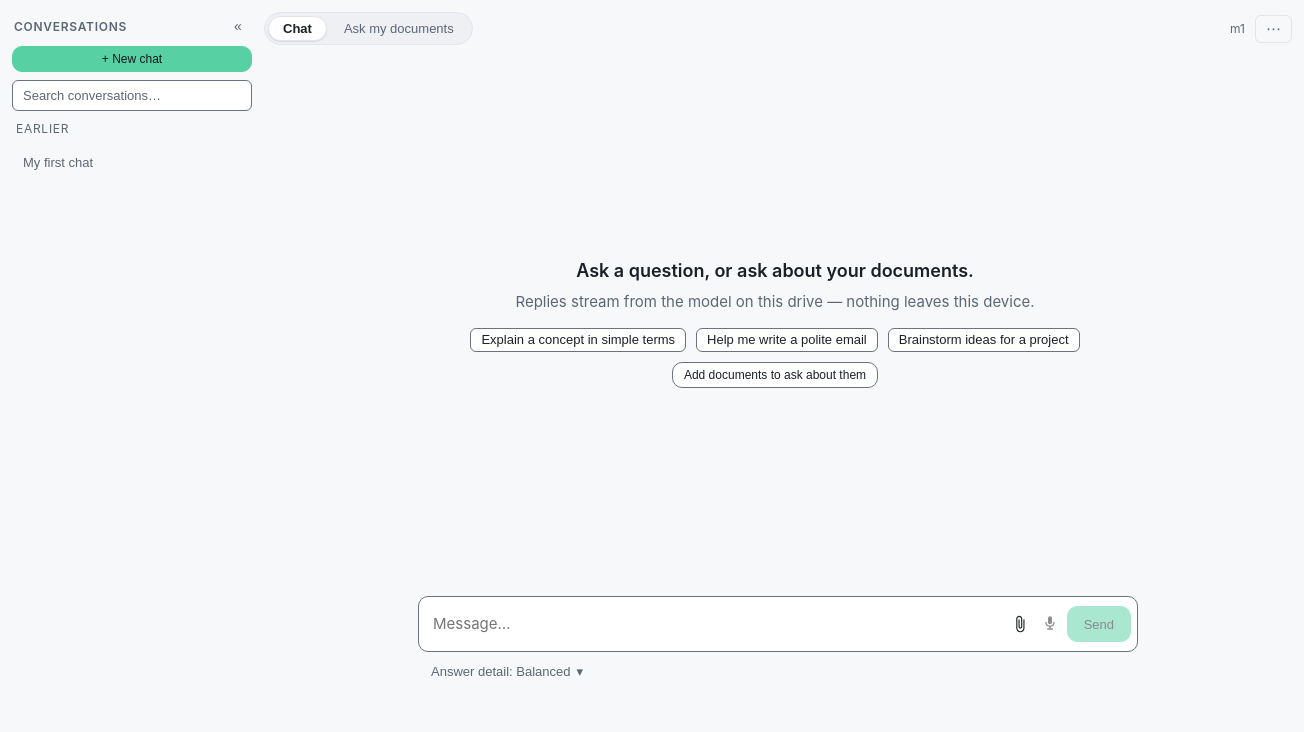
Test case: ChatScreen — markdown rendering › renders assistant markdown (e.g. **bold**) as formatting, not raw asterisks
What coordinates should you click on to do the following:
click the button "My first chat"
I would click on:
 (116, 162)
Its box is x1=12 y1=142 x2=221 y2=182.
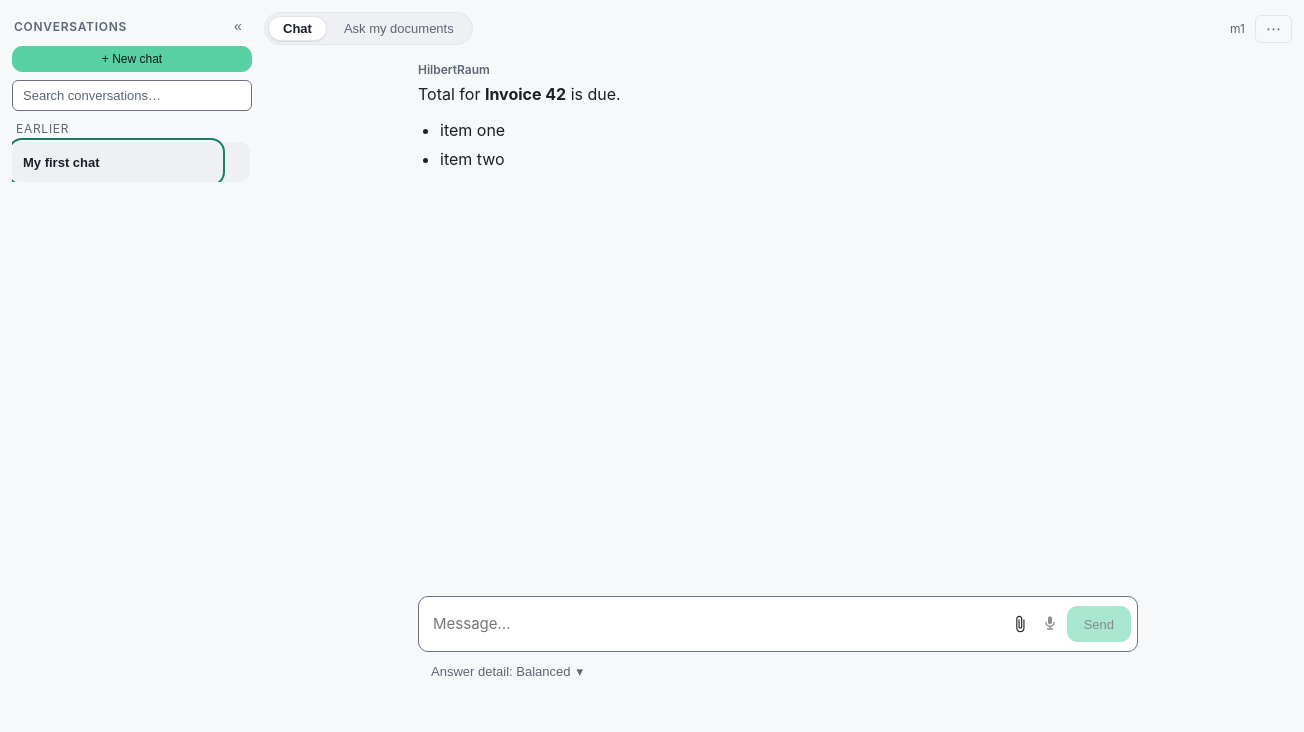
Expected: the list is shown, x1=440 y1=120 x2=505 y2=169
